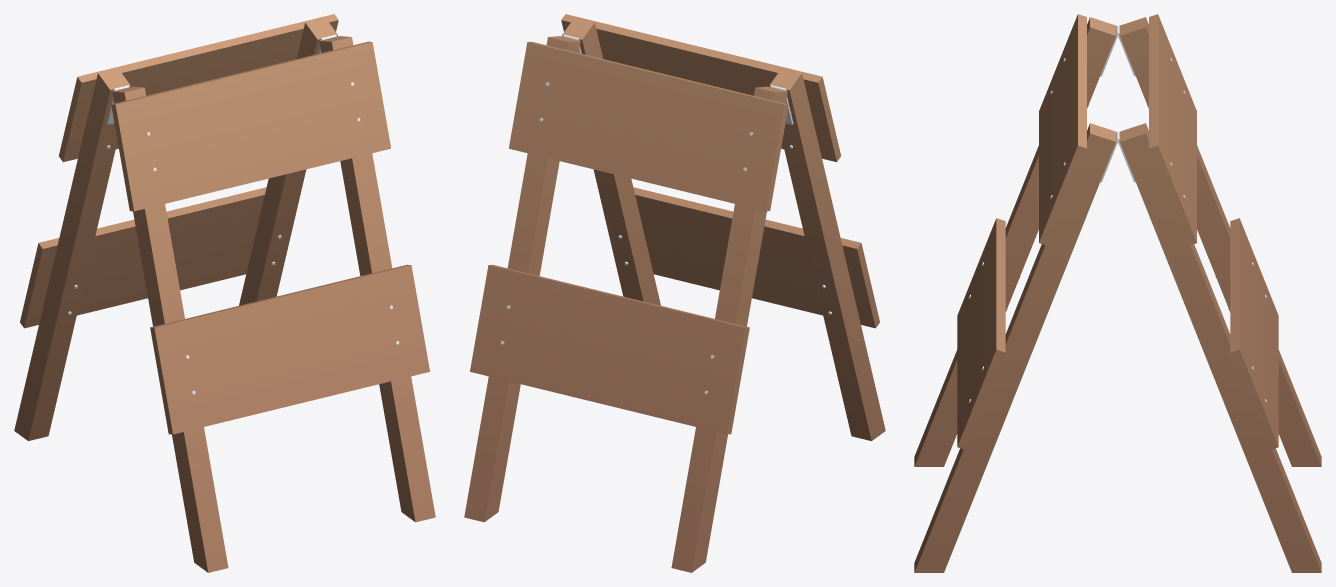
The model's file is simple_barricade_01_wood_small.glb.
3 views of the same model, side by side, from view 1: azimuth 30°, elevation 25°; view 2: azimuth 150°, elevation 25°; view 3: azimuth 270°, elevation 25° (orthographic). The views are drawn at different scales.
Parts seen in each view (by area): view 1: simple_barricade_01_wood_small; view 2: simple_barricade_01_wood_small; view 3: simple_barricade_01_wood_small.
Boxes of the visible parts, x1,y1,x2,y2 form: simple_barricade_01_wood_small: [14, 14, 435, 572]; simple_barricade_01_wood_small: [464, 14, 885, 572]; simple_barricade_01_wood_small: [914, 14, 1321, 572].
Size of the model in its own units: 0.635 by 0.9894 by 0.8304.
1 material, 1 textured.
